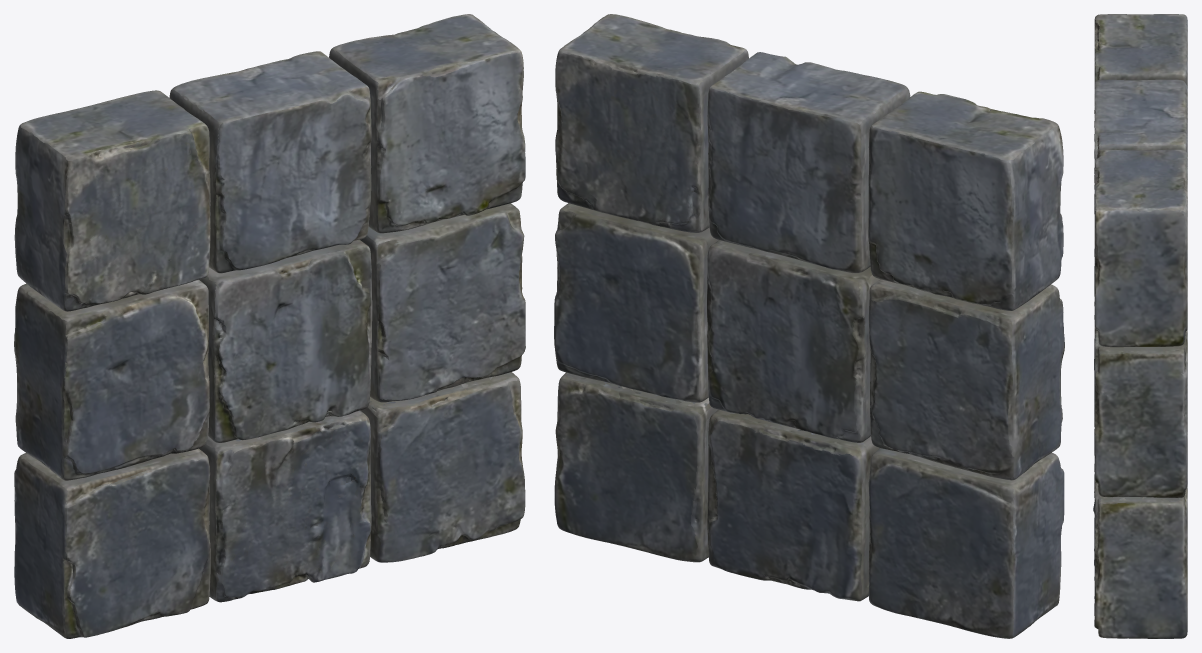
The model's file is nine-palace-v2.glb.
3 views of the same model, side by side, from view 1: azimuth 30°, elevation 25°; view 2: azimuth 150°, elevation 25°; view 3: azimuth 270°, elevation 25° (orthographic). The views are drawn at different scales.
Parts seen in each view (by area): view 1: geometry_0; view 2: geometry_0; view 3: geometry_0.
Boxes of the visible parts, x1,y1,x2,y2 form: geometry_0: (14, 14, 525, 638); geometry_0: (554, 14, 1064, 638); geometry_0: (1093, 14, 1187, 638).
Size of the model in its own units: 0.15 by 0.15 by 0.0299.
1 material, 1 textured.
